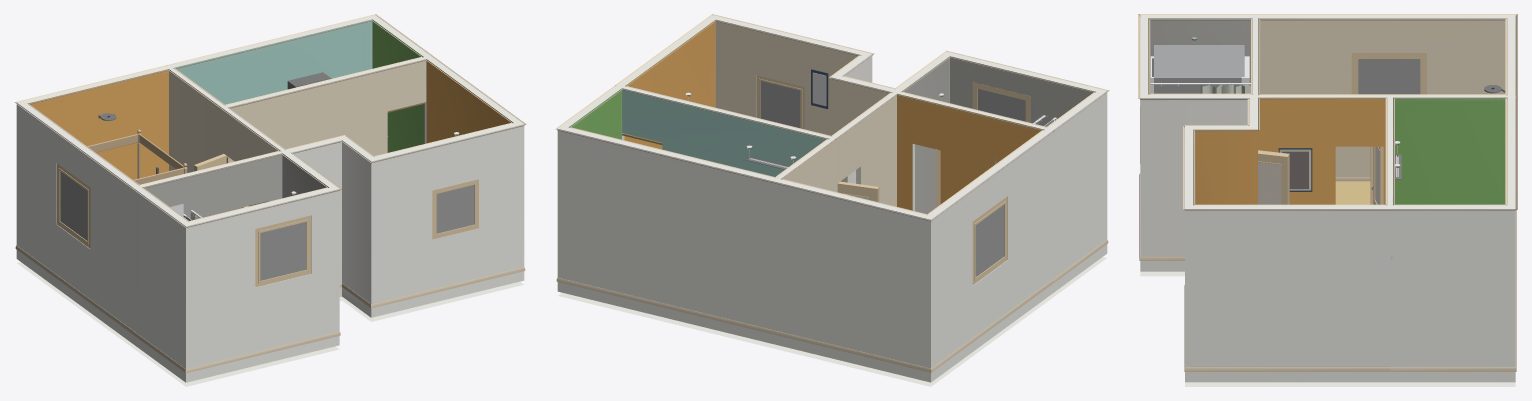
Rendered from 1bhk_homefinal.glb.
3 renders of one model, left to right at view 1: azimuth 30°, elevation 25°; view 2: azimuth 150°, elevation 25°; view 3: azimuth 270°, elevation 25°, orthographic. The views are drawn at different scales.
Size of the model in its own units: 305 by 129 by 250.
Materials: 1 (1 with a texture image).
